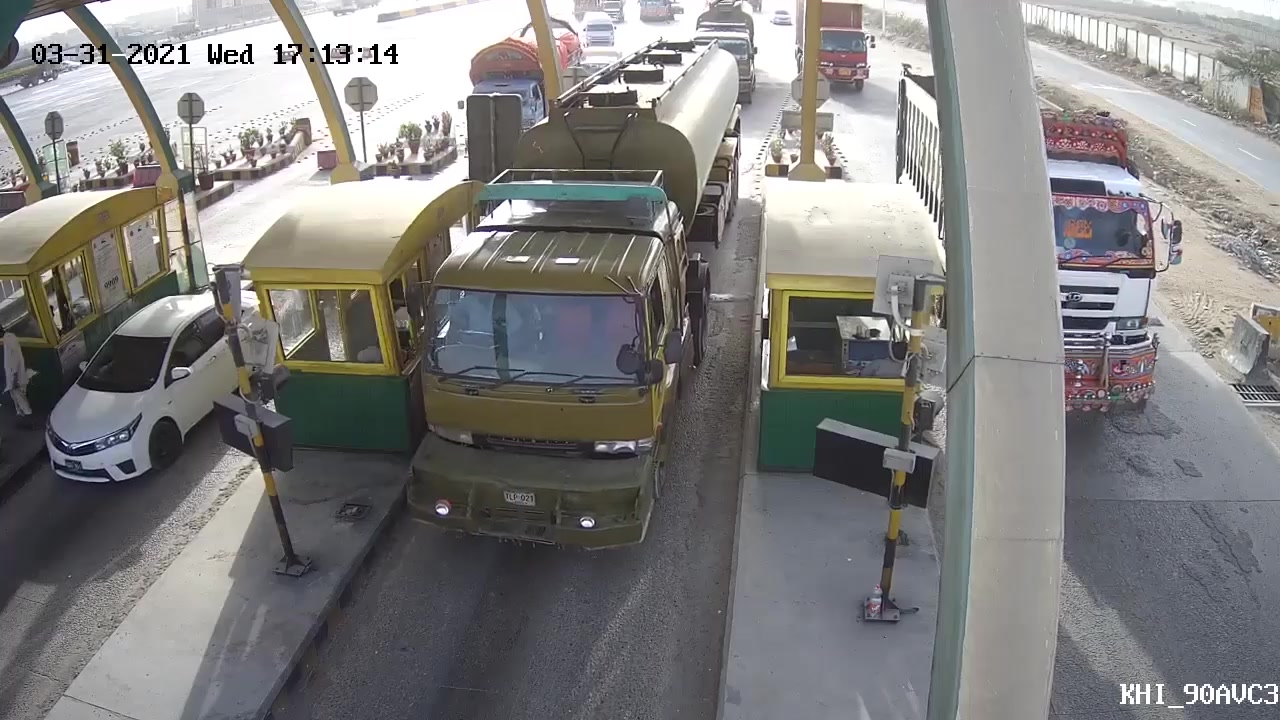F6: (404, 41, 747, 581)
